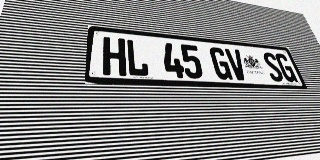4: (161, 42, 185, 78)
5: (180, 44, 204, 79)
G: (208, 47, 233, 80), (274, 53, 298, 82)
H: (103, 37, 126, 76)
L: (126, 39, 149, 77)
S: (261, 52, 285, 82)
V: (224, 48, 249, 80)
